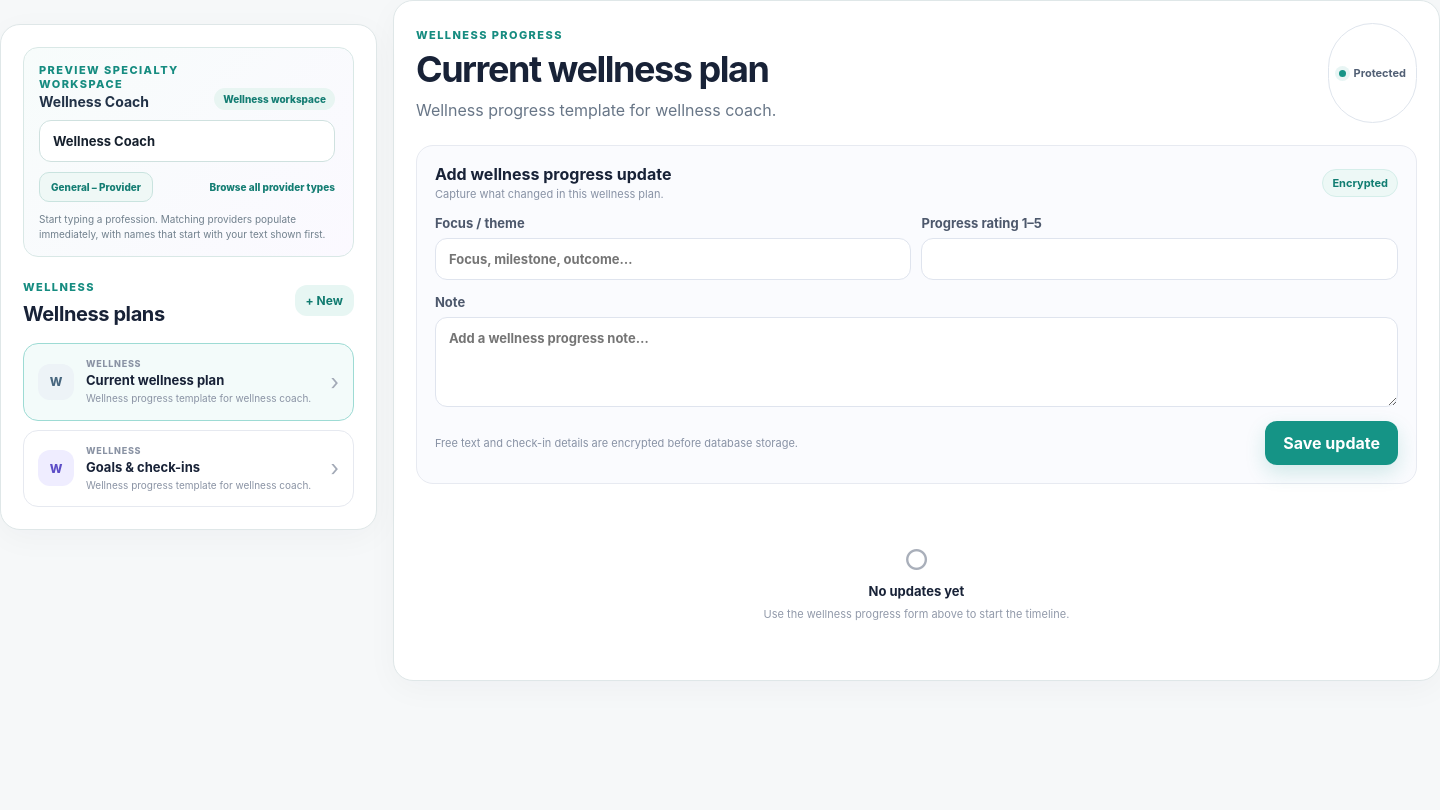
Scenario: PortalWorkspace specialty selector › offers a General – Provider fallback that switches to the neutral client-plan template
Click the button "General – Provider": (96, 187) [39,172,153,202]
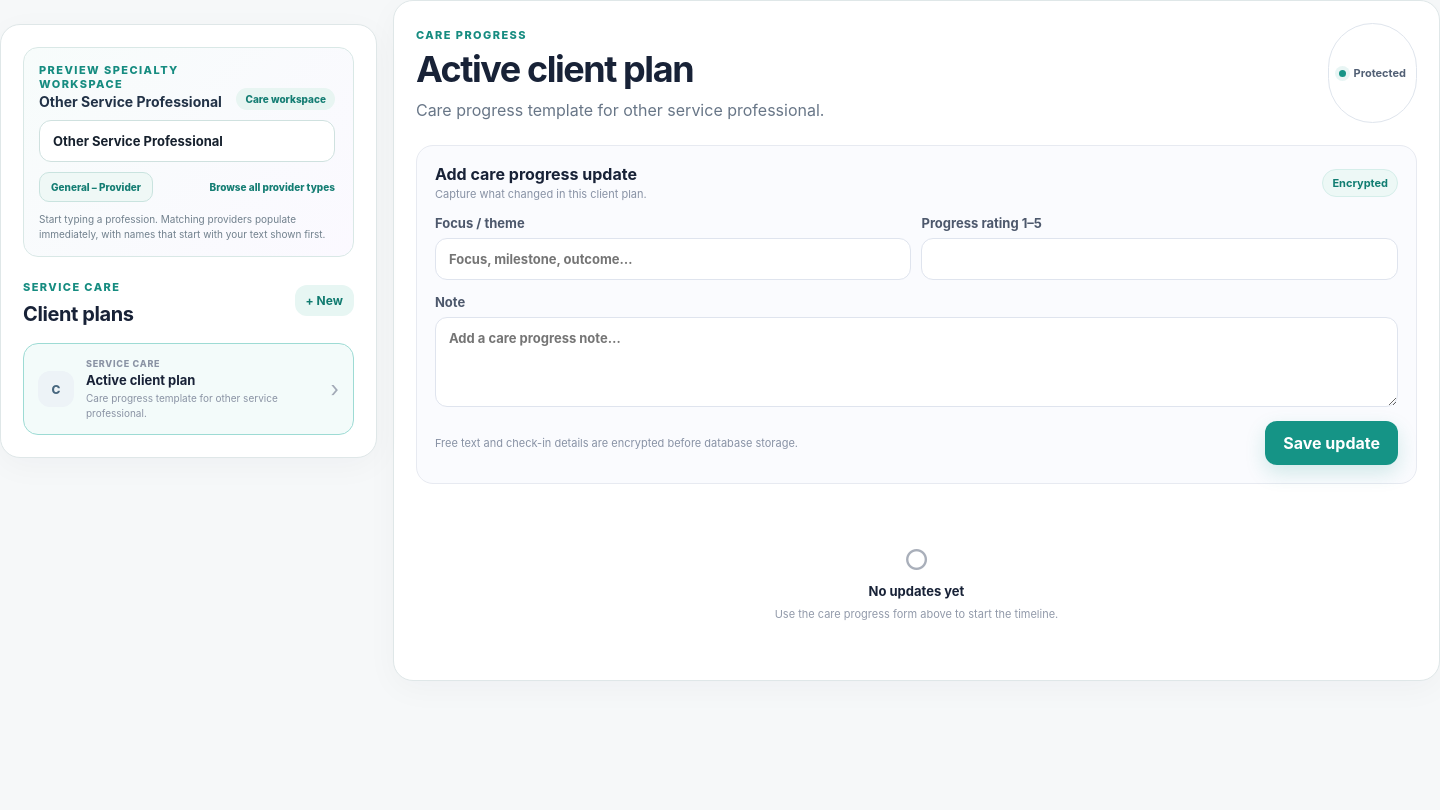
Check: the heading "Client plans" is shown, box [23,302,134,326]
Check: the heading "Active client plan" is shown, box [416,47,693,91]
